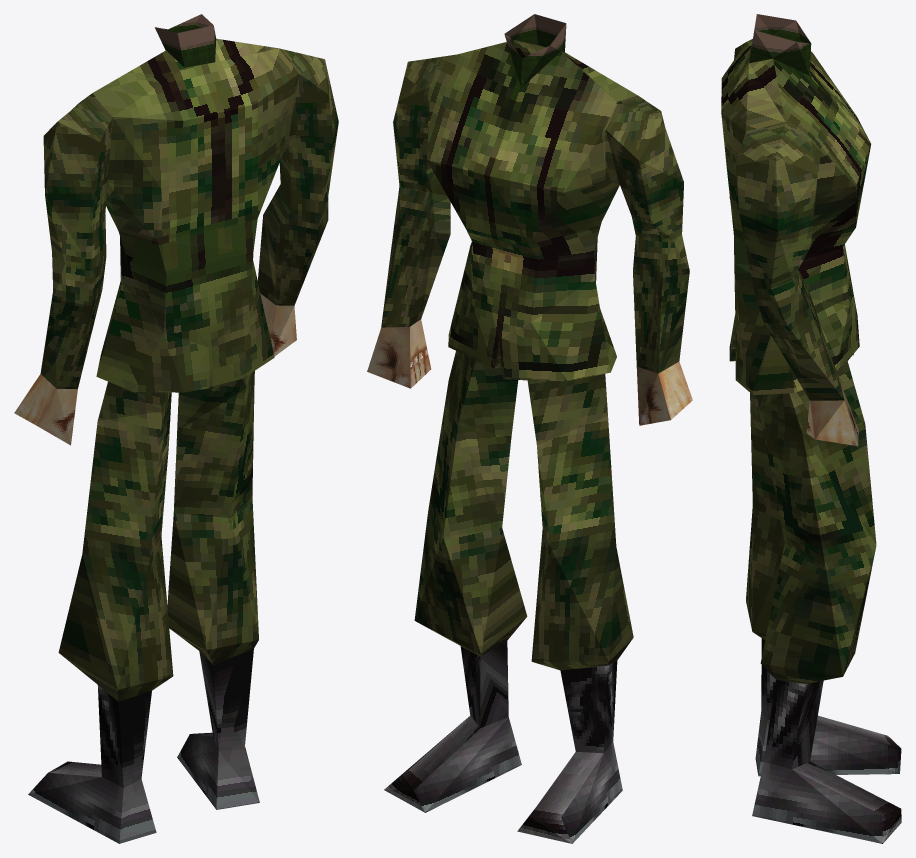
Rendered from primary_009.glb.
The picture shows the model from 3 angles, left to right: view 1: azimuth 30°, elevation 25°; view 2: azimuth 150°, elevation 25°; view 3: azimuth 270°, elevation 25°; orthographic projection. The views are drawn at different scales.
Visible parts, largest first — view 1: Object; view 2: Object; view 3: Object.
Part boxes in pixels (box(x1,y1,x2,y2)): Object: box(14, 14, 338, 843); Object: box(367, 14, 692, 843); Object: box(721, 14, 901, 843).
Bounding box in the file's own units: 0.7424 × 1.83 × 0.3861.
85 materials, 85 textured.
